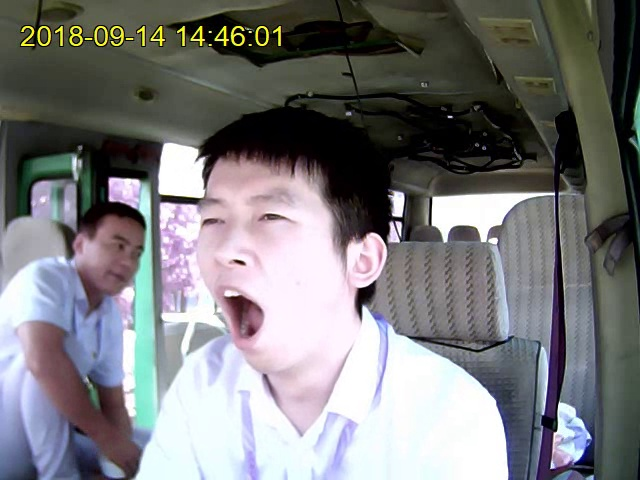open_mouth: (212, 280, 268, 349)
